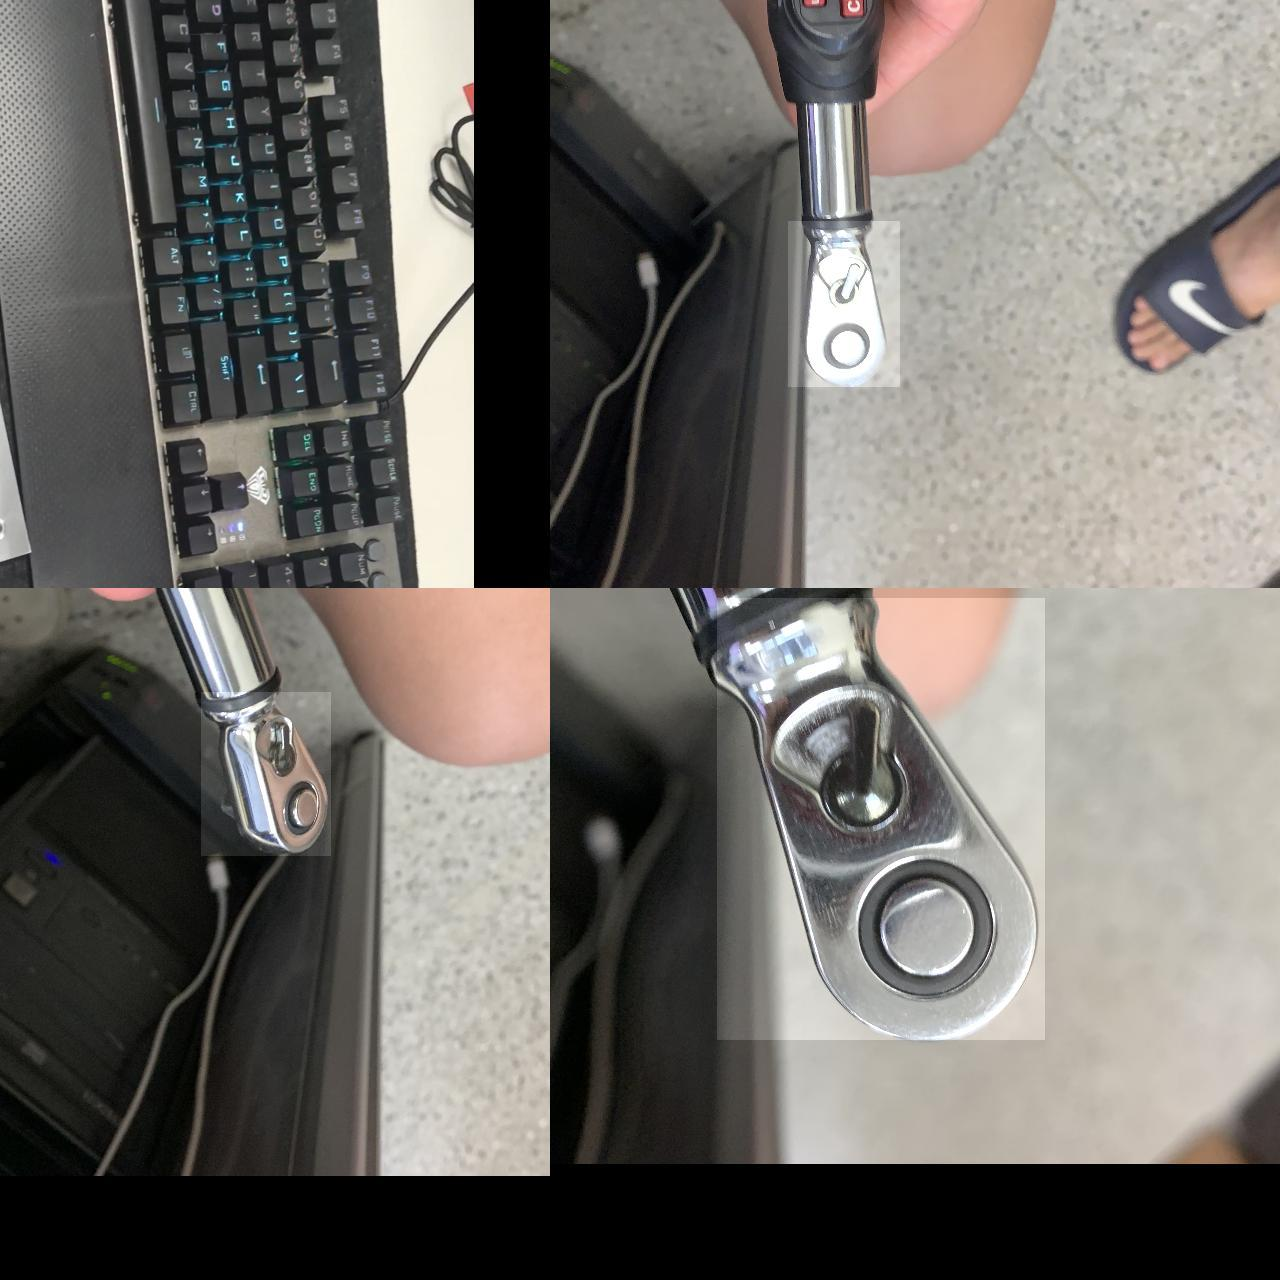Tool: (716, 598, 1044, 1040), (200, 692, 331, 856), (787, 222, 899, 387)
